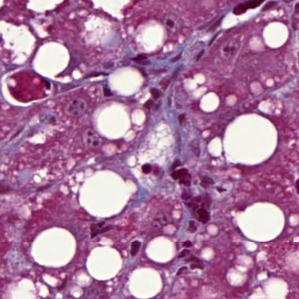ballooning: (88, 96, 150, 146), (130, 15, 172, 56)
